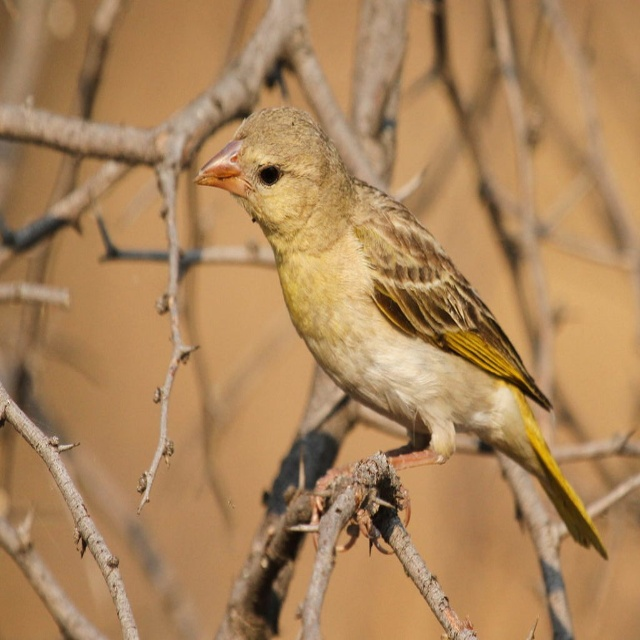Sparrow: (192, 110, 608, 558)
